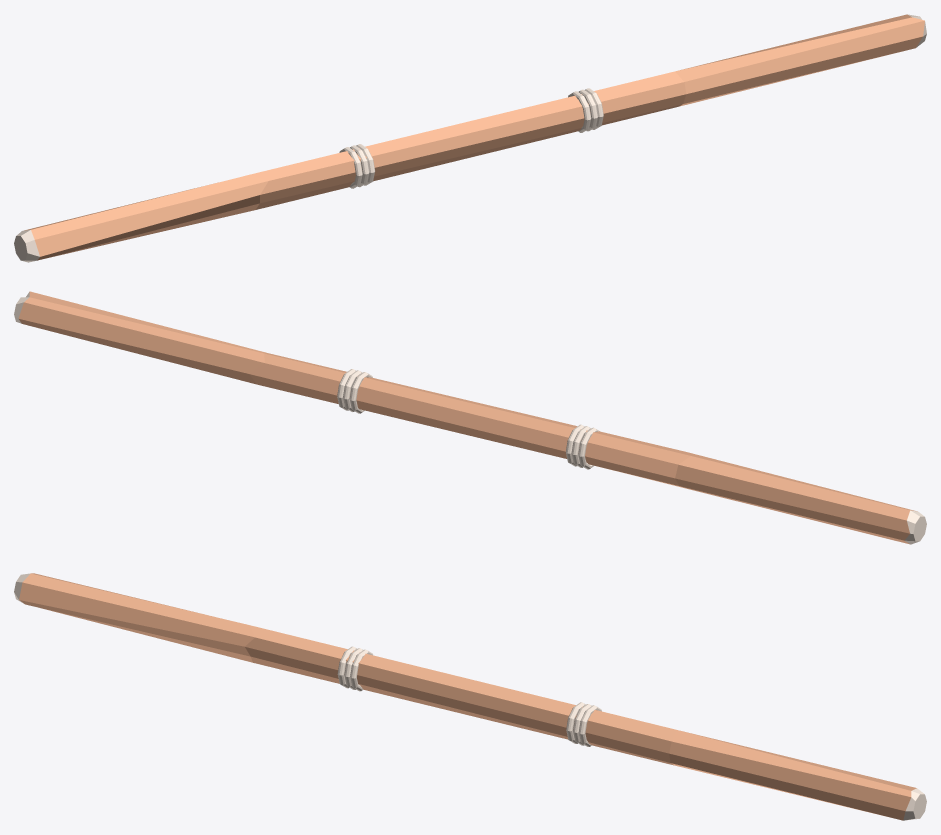
The model's file is LogModel.fbx.
3 renders of one model, top to bottom at view 1: azimuth 30°, elevation 25°; view 2: azimuth 150°, elevation 25°; view 3: azimuth 330°, elevation 25°, orthographic.
Visible parts, largest first — view 1: Log; view 2: Log; view 3: Log.
Boxes of the visible parts, x1,y1,x2,y2 form: Log: [14, 14, 926, 262]; Log: [14, 291, 926, 544]; Log: [14, 573, 926, 820].
Size of the model in its own units: 300 by 11.8 by 12.41.
